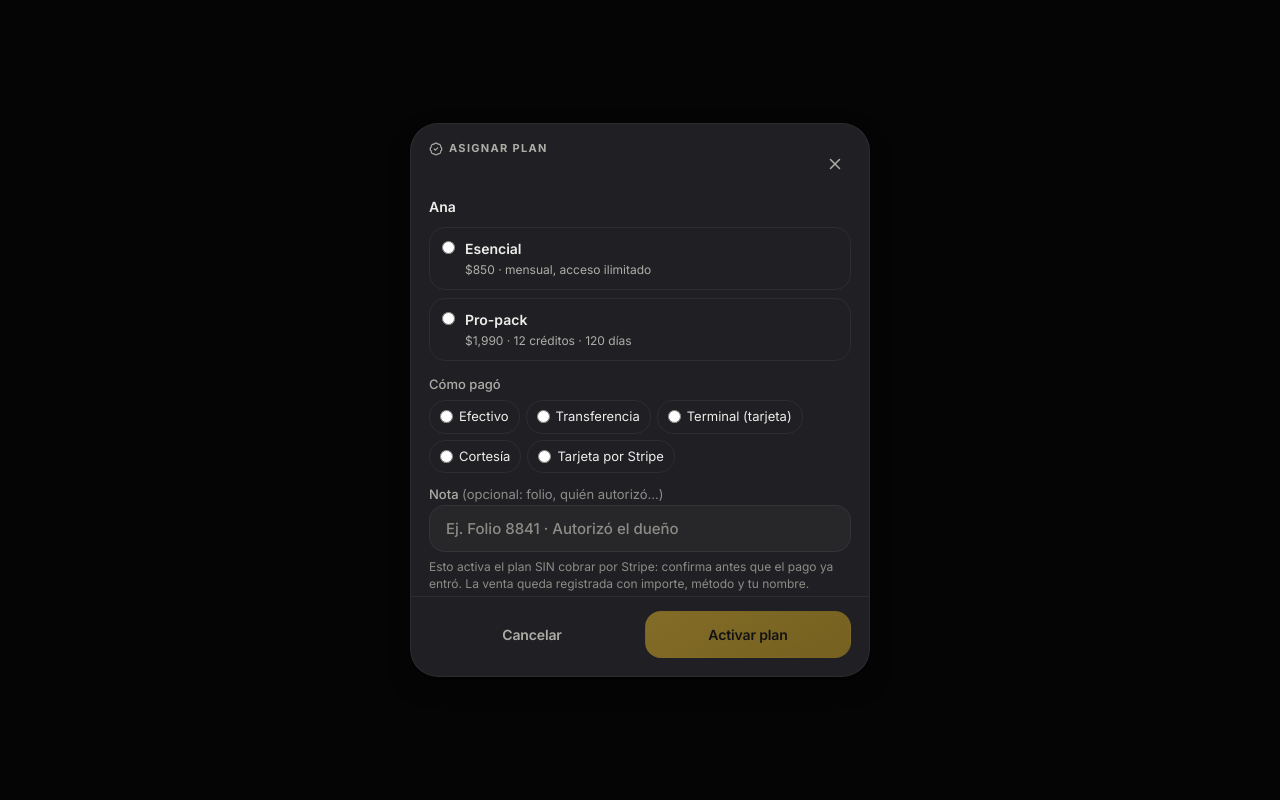
Test: AsignarPlanModal · venta de mostrador (PKG-01D) › cortesía: $0 cobrado con el precio de lista visible; efectivo: cobrado = precio de lista
Click the radio button labelled "Esencial $850 · mensual, acceso ilimitado": {"x": 448, "y": 247} [442,241,455,254]
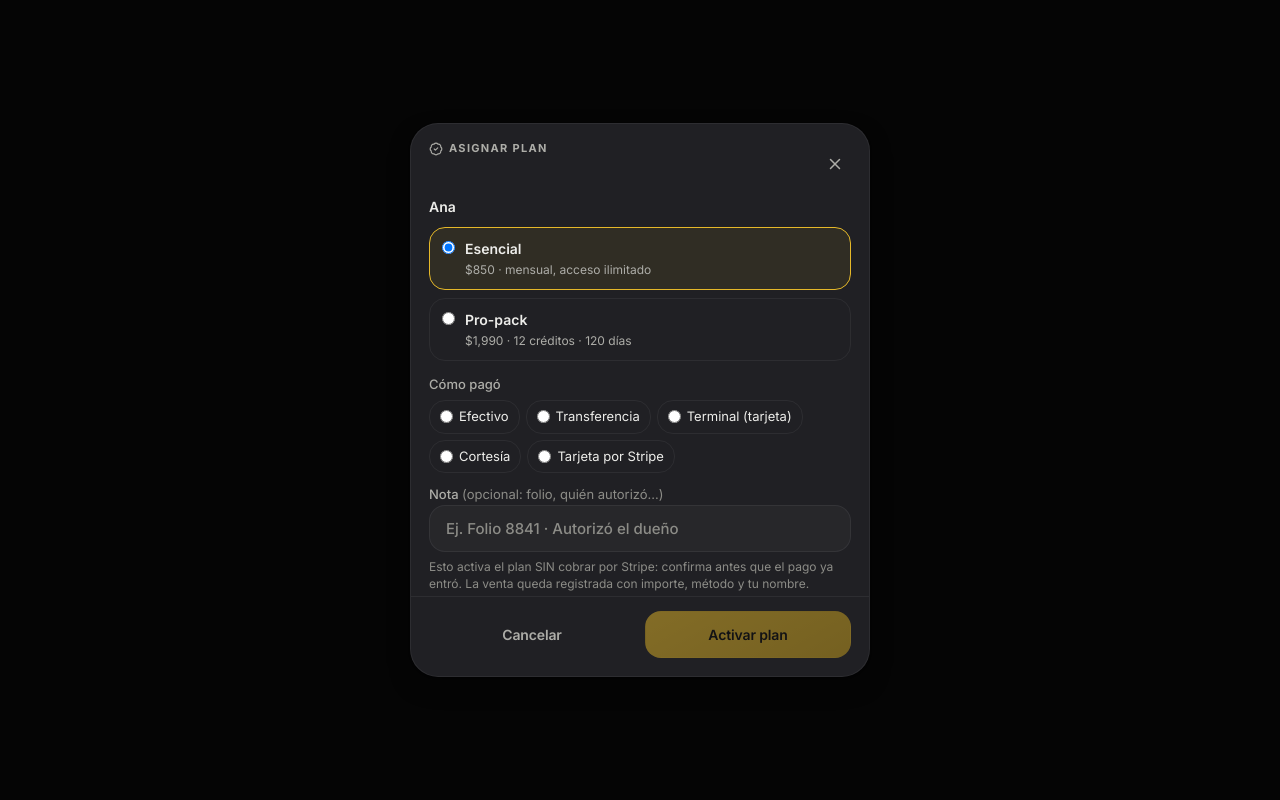
Click the radio button labelled "Cortesía": {"x": 446, "y": 456} [440,450,453,463]
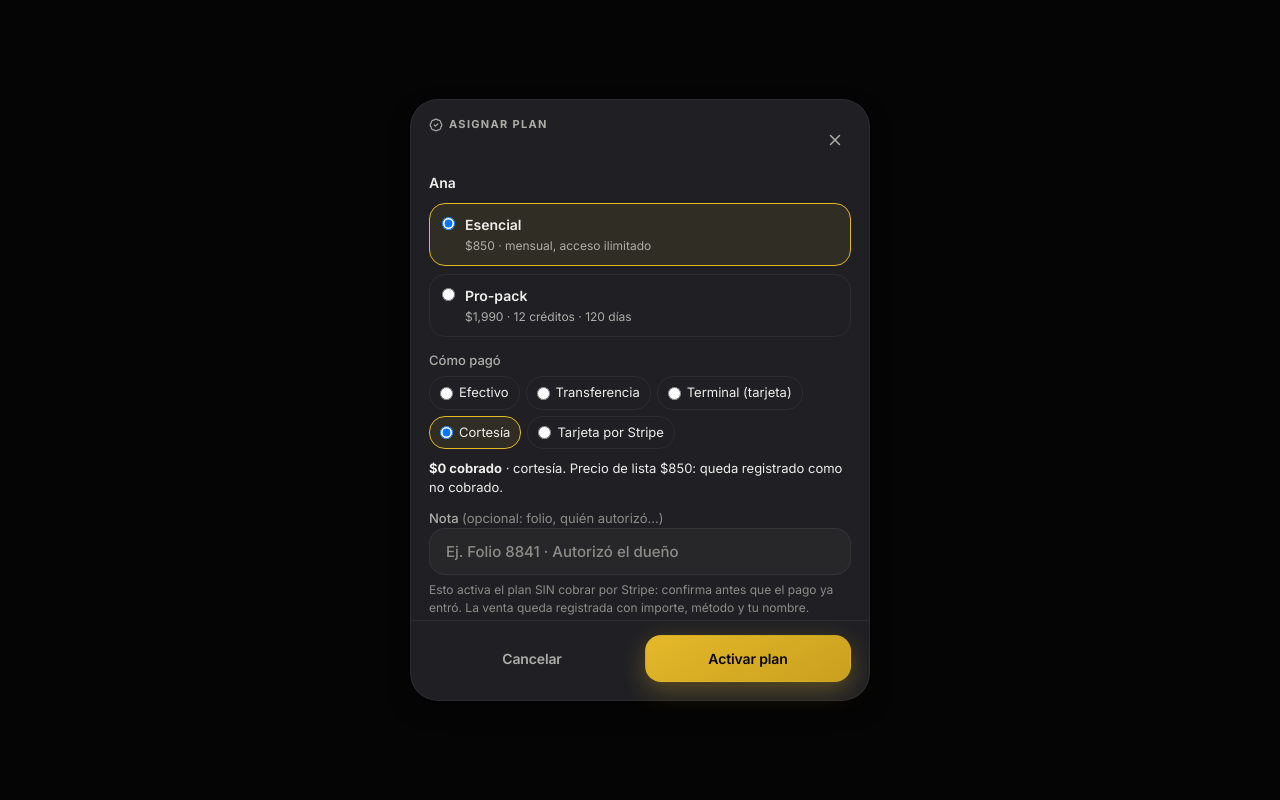
Now the element with test id "resumen-cobro" shows "$0 cobrado", box [429,460,502,476]
Now the element with test id "resumen-cobro" shows "Precio de lista $850", box [429,459,851,497]
Click the radio button labelled "Efectivo": {"x": 446, "y": 393} [440,386,453,400]
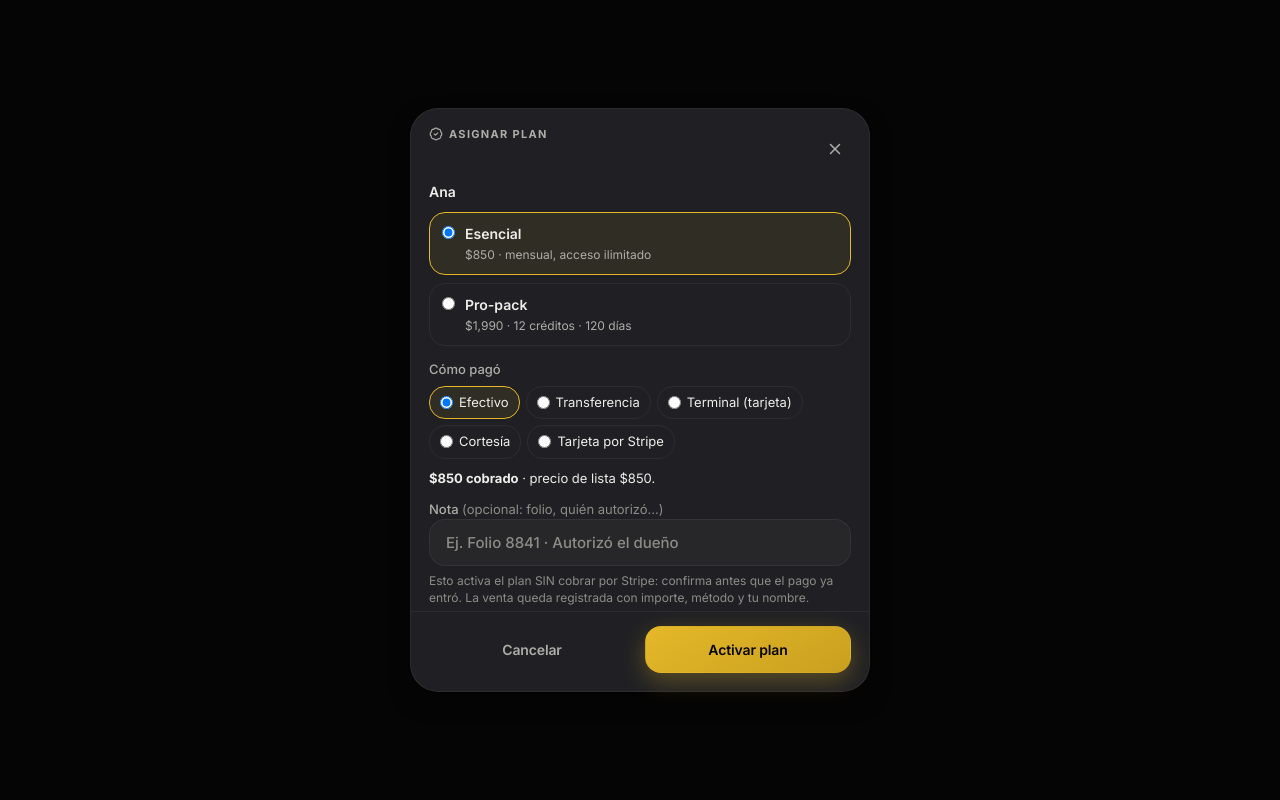
Now the element with test id "resumen-cobro" shows "$850 cobrado", box [429,470,655,486]
